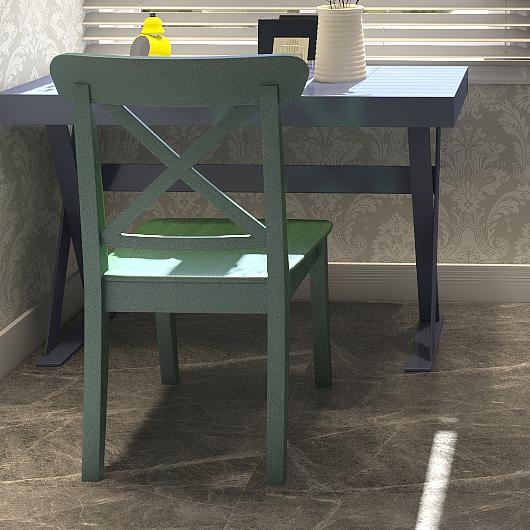table: (3, 53, 466, 376)
